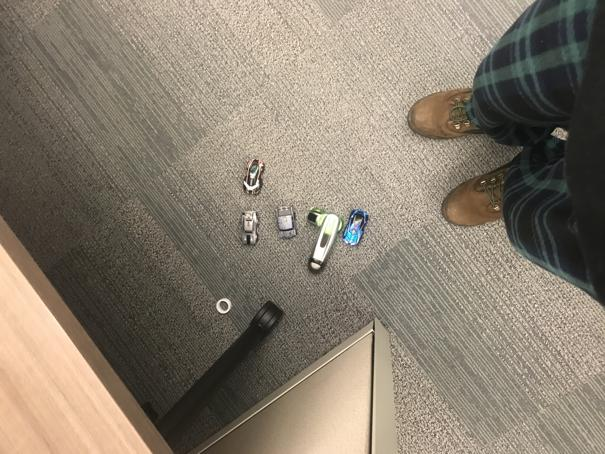Charger: (240, 208, 260, 248)
Freewheel: (307, 204, 344, 276)
MXT: (276, 205, 299, 239)
Shock: (344, 197, 371, 247)
Skull: (244, 156, 265, 196)
